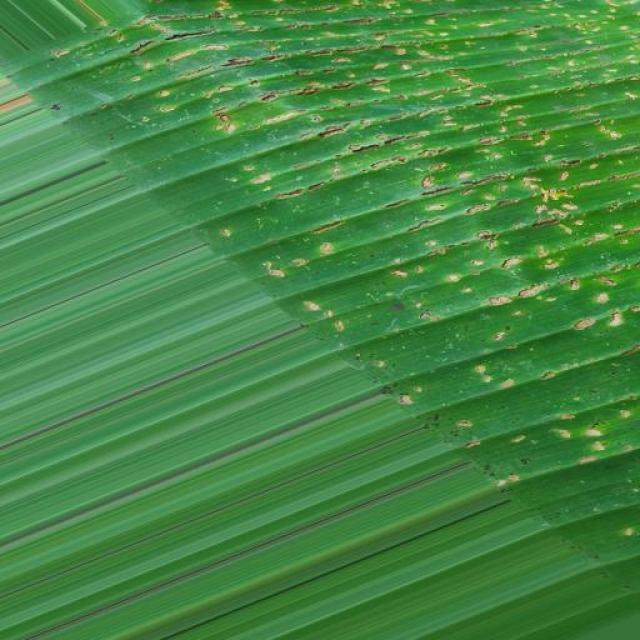Black_rot: (84, 2, 640, 489)
